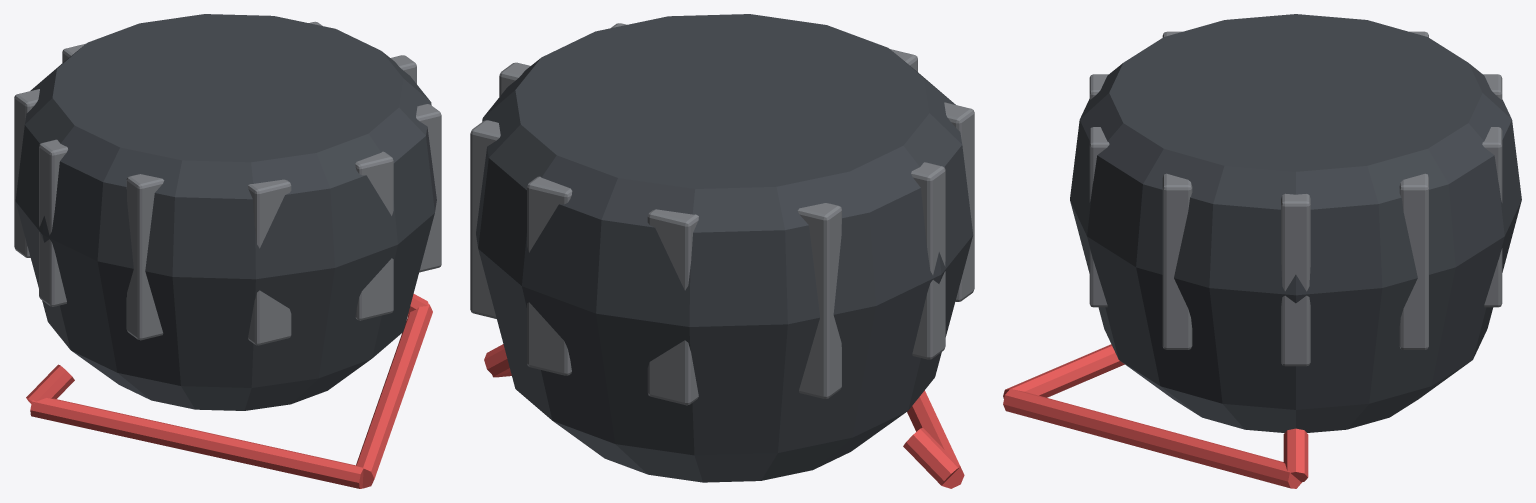
The model's file is costume_yamabushi_tokin.glb.
3 renders of one model, left to right at view 1: azimuth 30°, elevation 25°; view 2: azimuth 150°, elevation 25°; view 3: azimuth 270°, elevation 25°, orthographic. The views are drawn at different scales.
Parts seen in each view (by area): view 1: Black yamabushi tokin headpiece, Tokin textile binding_01, Tokin textile binding_02, Tokin folded lacquer facets.006, Tokin folded lacquer facets.007, Tokin folded lacquer facets.005, Tokin folded lacquer facets.008, Tokin folded lacquer facets.009, Tokin folded lacquer facets.004, Tokin textile binding_00; view 2: Black yamabushi tokin headpiece, Tokin folded lacquer facets.004, Tokin folded lacquer facets.003, Tokin folded lacquer facets.005, Tokin folded lacquer facets.002, Tokin folded lacquer facets.001, Tokin folded lacquer facets.006, Tokin textile binding_00, Tokin textile binding_01, Tokin textile binding_03; view 3: Black yamabushi tokin headpiece, Tokin textile binding_02, Tokin folded lacquer facets, Tokin folded lacquer facets.009, Tokin folded lacquer facets.001, Tokin textile binding_01, Tokin folded lacquer facets.002, Tokin folded lacquer facets.008, Tokin textile binding_03.
Part boxes in pixels (x1=…): Black yamabushi tokin headpiece: x1=15, y1=14, x2=436, y2=410; Tokin textile binding_01: x1=30, y1=398, x2=363, y2=488; Tokin textile binding_02: x1=356, y1=304, x2=432, y2=488; Tokin folded lacquer facets.006: x1=126, y1=174, x2=164, y2=340; Tokin folded lacquer facets.007: x1=248, y1=179, x2=291, y2=345; Tokin folded lacquer facets.005: x1=39, y1=139, x2=67, y2=306; Tokin folded lacquer facets.008: x1=355, y1=151, x2=393, y2=320; Tokin folded lacquer facets.009: x1=416, y1=104, x2=441, y2=272; Tokin folded lacquer facets.004: x1=14, y1=89, x2=39, y2=257; Tokin textile binding_00: x1=26, y1=364, x2=74, y2=403; Black yamabushi tokin headpiece: x1=476, y1=14, x2=972, y2=482; Tokin folded lacquer facets.004: x1=797, y1=203, x2=841, y2=398; Tokin folded lacquer facets.003: x1=647, y1=209, x2=698, y2=405; Tokin folded lacquer facets.005: x1=911, y1=162, x2=945, y2=359; Tokin folded lacquer facets.002: x1=527, y1=176, x2=572, y2=375; Tokin folded lacquer facets.001: x1=470, y1=120, x2=500, y2=318; Tokin folded lacquer facets.006: x1=944, y1=102, x2=974, y2=301; Tokin textile binding_00: x1=903, y1=427, x2=959, y2=485; Tokin textile binding_01: x1=907, y1=390, x2=964, y2=488; Tokin textile binding_03: x1=484, y1=344, x2=510, y2=376; Black yamabushi tokin headpiece: x1=1070, y1=14, x2=1521, y2=432; Tokin textile binding_02: x1=1003, y1=389, x2=1301, y2=488; Tokin folded lacquer facets: x1=1281, y1=193, x2=1310, y2=366; Tokin folded lacquer facets.009: x1=1162, y1=173, x2=1192, y2=349; Tokin folded lacquer facets.001: x1=1399, y1=173, x2=1428, y2=349; Tokin textile binding_01: x1=1003, y1=344, x2=1124, y2=398; Tokin folded lacquer facets.002: x1=1482, y1=127, x2=1502, y2=307; Tokin folded lacquer facets.008: x1=1089, y1=127, x2=1109, y2=307; Tokin textile binding_03: x1=1283, y1=428, x2=1308, y2=482.
Bounding box in the file's own units: 1.84 × 1.32 × 1.95.
